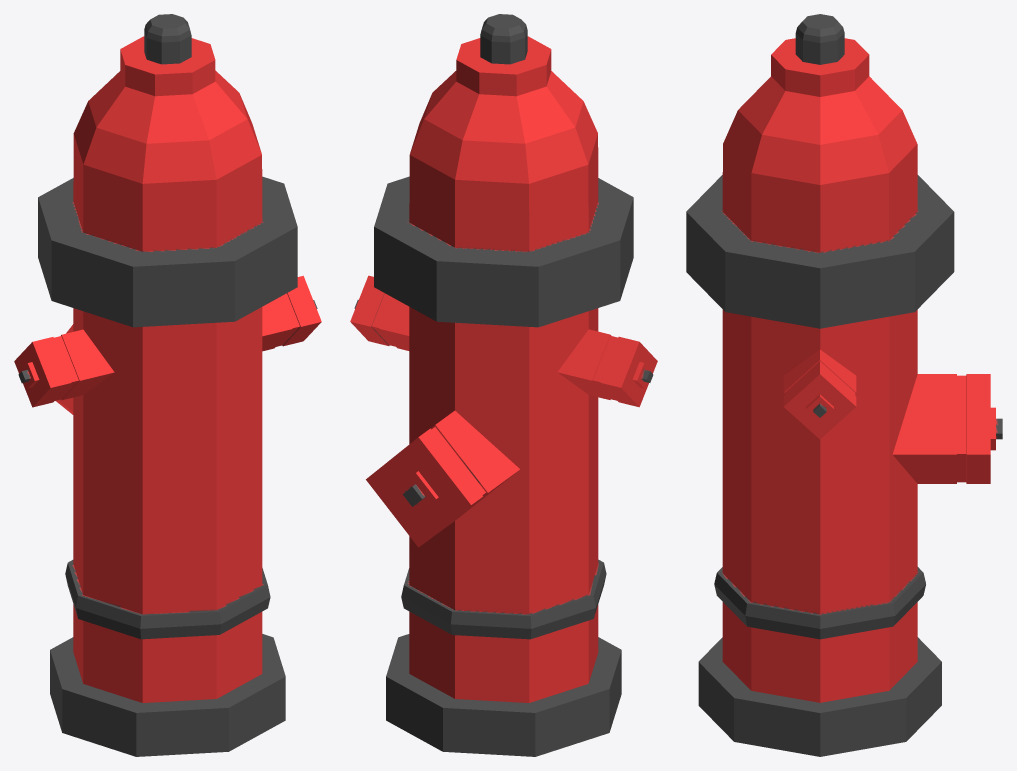
The model's file is model-scenario-static-level0-micelanious-hydrant.fbx.
3 renders of one model, left to right at view 1: azimuth 30°, elevation 25°; view 2: azimuth 150°, elevation 25°; view 3: azimuth 270°, elevation 25°, orthographic.
Visible parts, largest first — view 1: hydrant_mesh; view 2: hydrant_mesh; view 3: hydrant_mesh.
Boxes of the visible parts, bbox=[...] form: hydrant_mesh: bbox=[14, 14, 321, 756]; hydrant_mesh: bbox=[350, 14, 657, 756]; hydrant_mesh: bbox=[686, 14, 1002, 756].
Size of the model in its own units: 0.4161 by 0.4426 by 0.992.
